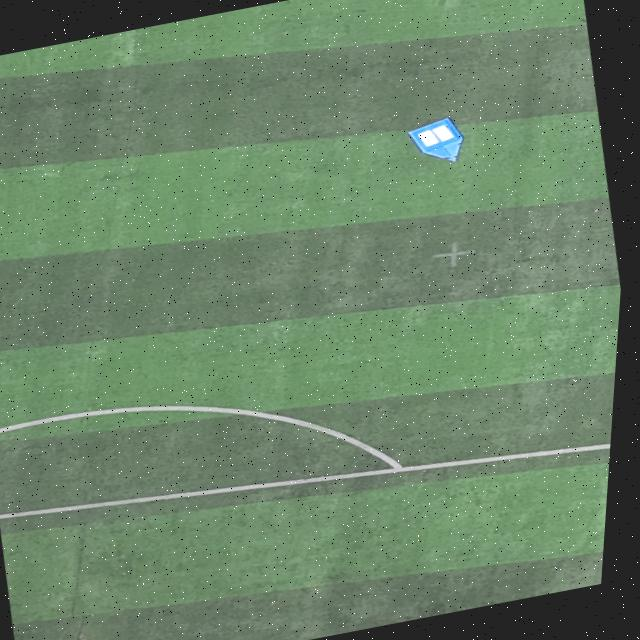board: (408, 117, 465, 162)
